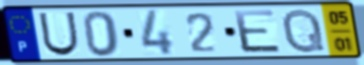0: (81, 9, 121, 58)
2: (185, 11, 219, 54)
4: (138, 8, 177, 58)
E: (231, 8, 285, 55)
Q: (281, 7, 328, 55)
U: (37, 11, 81, 58)
